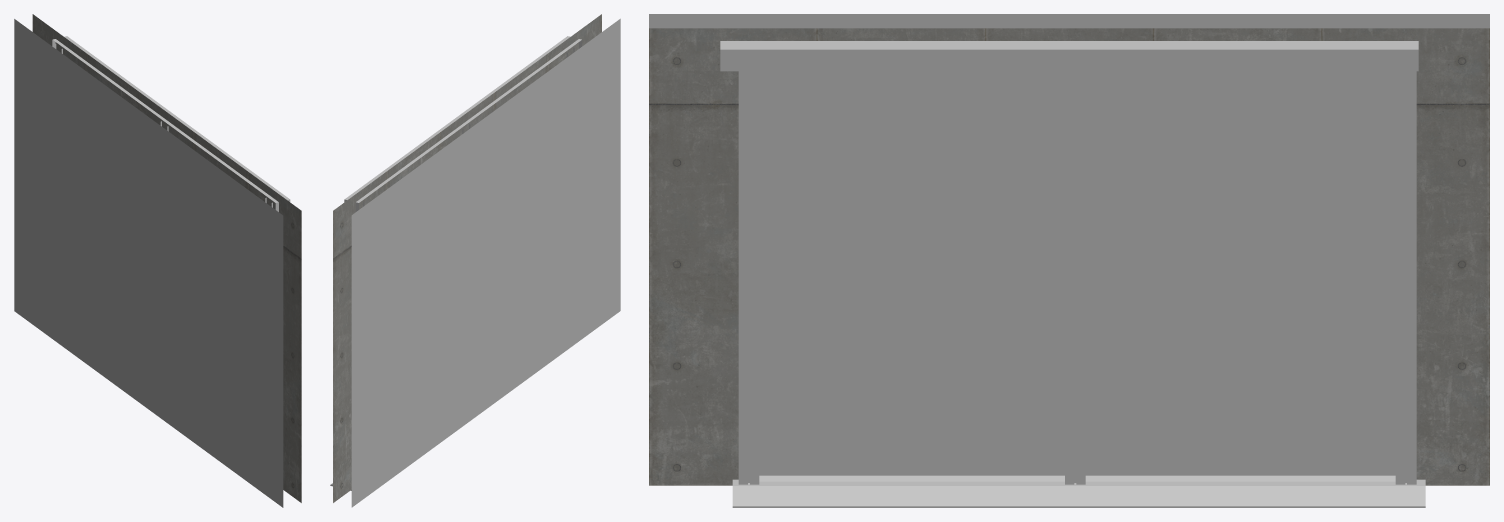
Rendered from AE_Wall_Roller_Shutter_04.fbx.
3 renders of one model, left to right at view 1: azimuth 30°, elevation 25°; view 2: azimuth 150°, elevation 25°; view 3: azimuth 270°, elevation 25°, orthographic. The views are drawn at different scales.
Parts seen in each view (by area): view 1: AE_Wall_Roller_Shutter_04; view 2: AE_Wall_Roller_Shutter_04; view 3: AE_Wall_Roller_Shutter_04.
Part boxes in pixels (x1,y1,x2,y2): AE_Wall_Roller_Shutter_04: [14, 14, 301, 507]; AE_Wall_Roller_Shutter_04: [330, 14, 620, 507]; AE_Wall_Roller_Shutter_04: [649, 14, 1489, 507].
Bounding box in the file's own units: 44.75 × 303 × 500.
